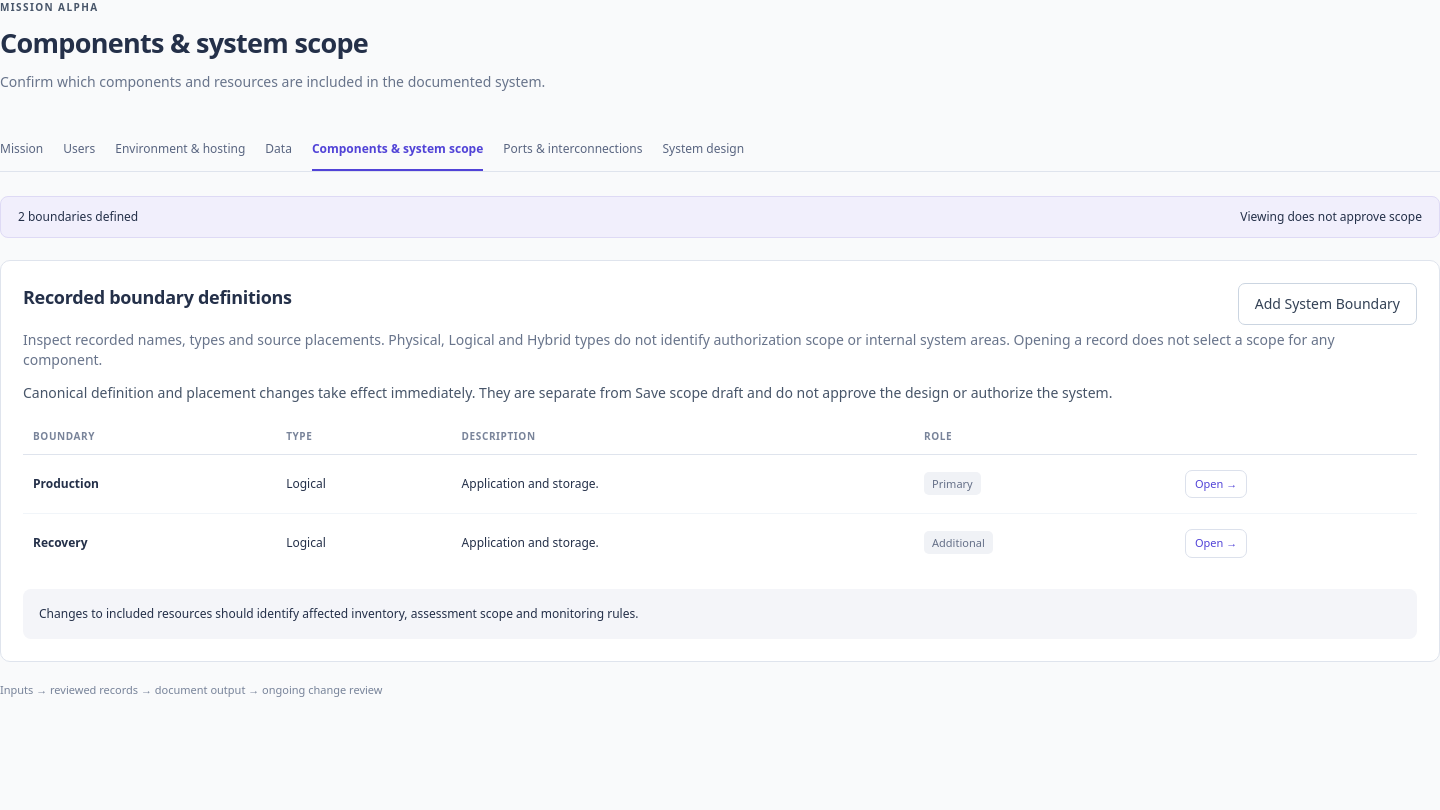
Inventory and boundary mock parity › offers the scoped inventory handoff when the component picker has no eligible candidates
This screenshot has width=1440, height=810.
What coordinates should you click on to do the following:
click the button with aria-label "Open boundary Production"
I would click on:
 (1216, 484)
Its box is [1185,470,1247,498].
(page scrolled)
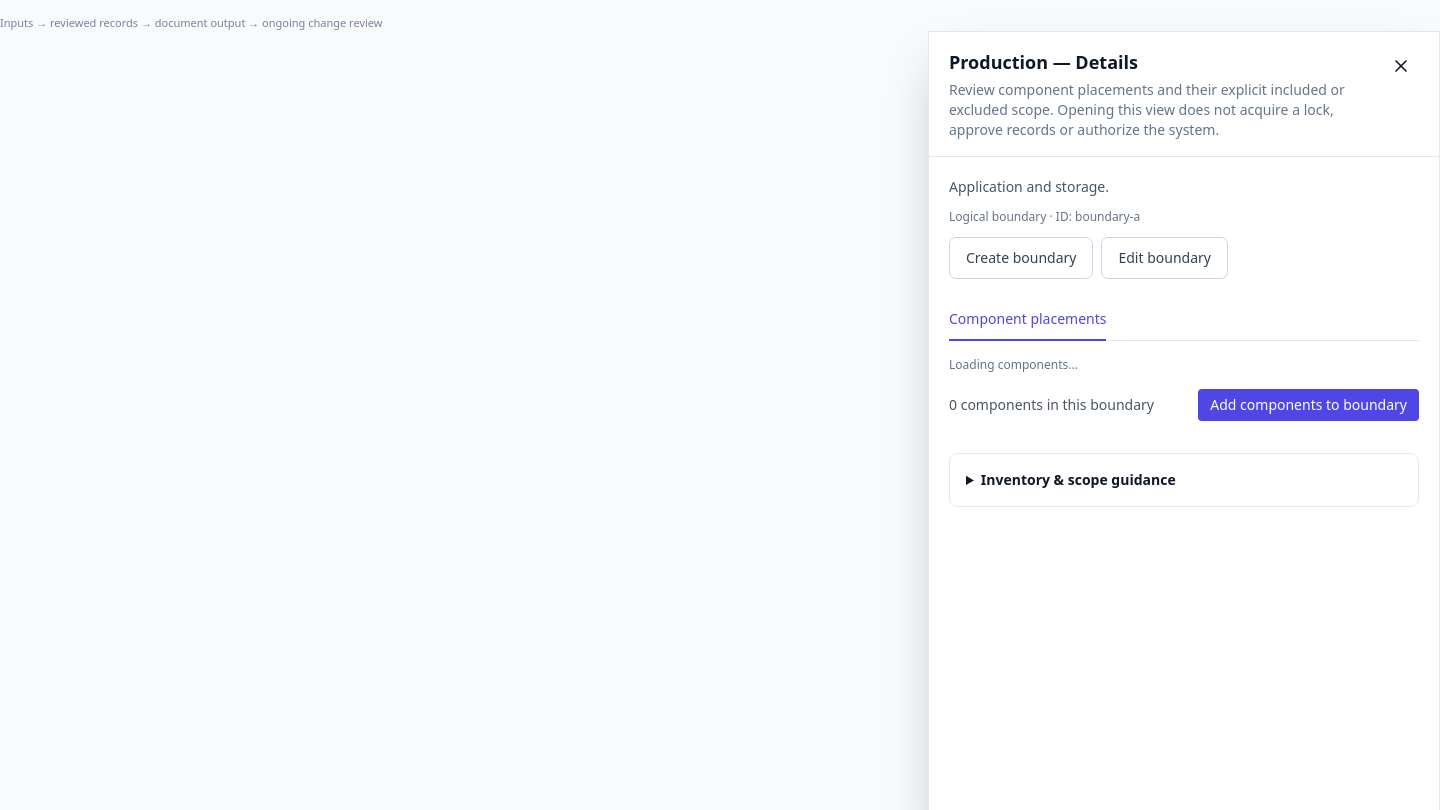
What coordinates should you click on to do the following:
click the button "Add components to boundary"
I would click on:
 (1309, 405)
Its box is [1198,389,1419,421].
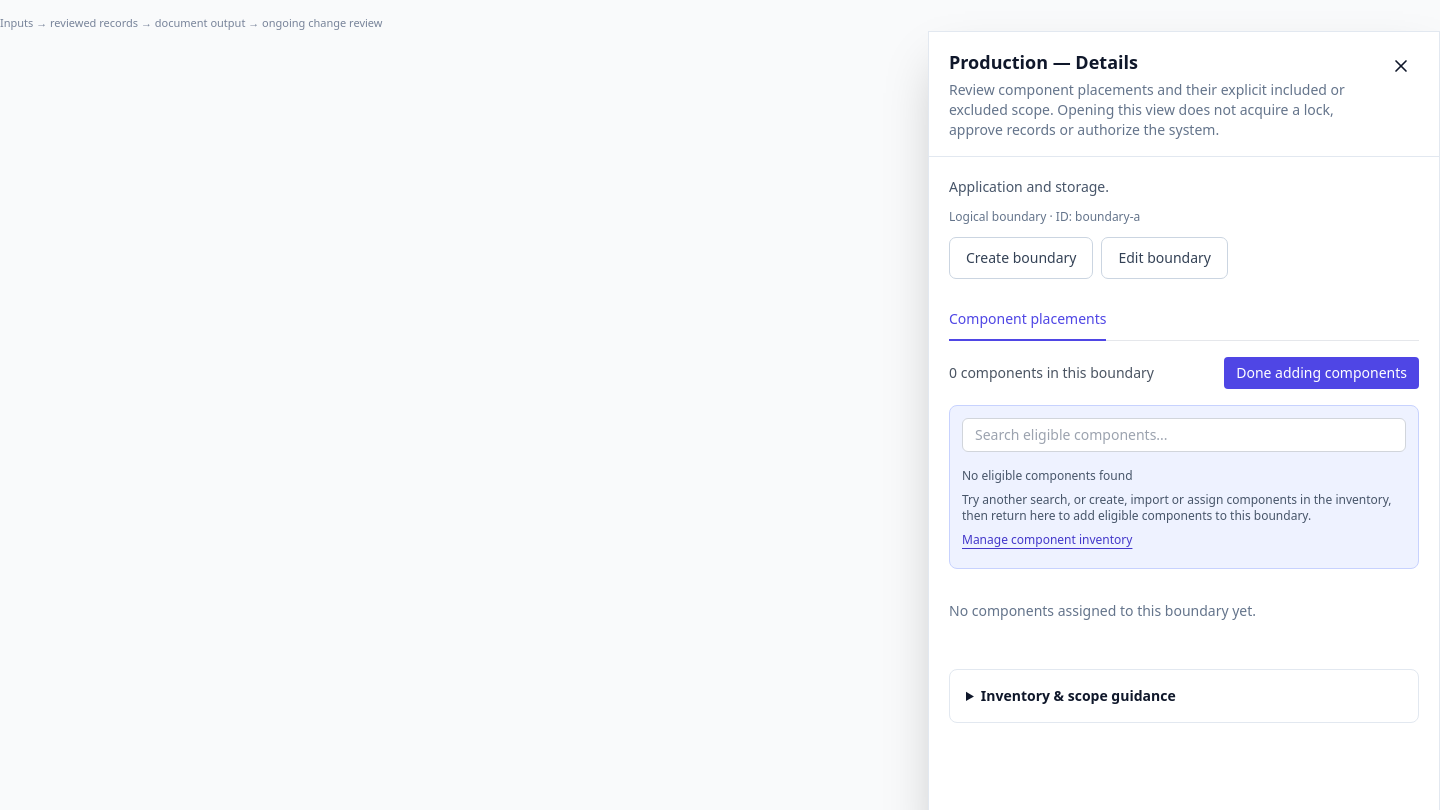
expect the text "then return here to add eligible components to this boundary" is shown: met, box [962,491,1392,524]
